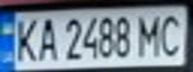2: (60, 15, 84, 61)
4: (81, 13, 100, 60)
8: (112, 12, 136, 59), (97, 12, 118, 60)
A: (33, 14, 60, 62)
C: (154, 10, 187, 57)
K: (12, 15, 42, 63)
M: (133, 11, 166, 58)
